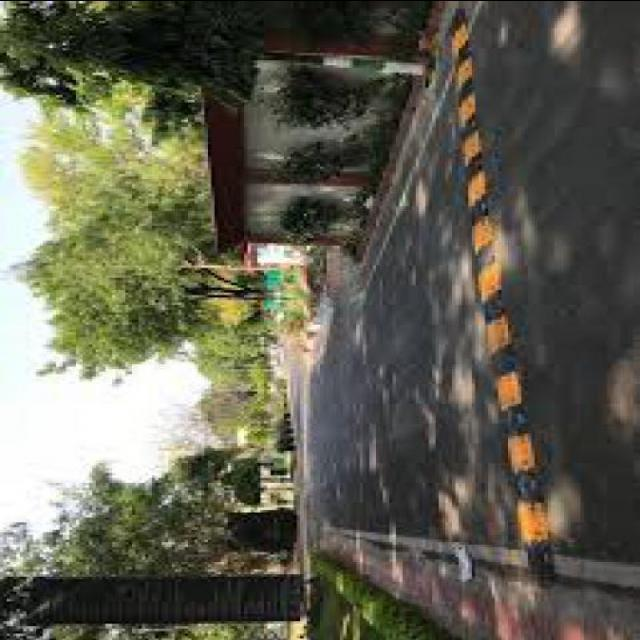Speed_Breaker: (444, 0, 563, 585), (447, 0, 559, 582)
